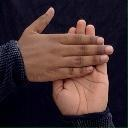hand: (18, 7, 114, 81), (52, 20, 109, 116)
